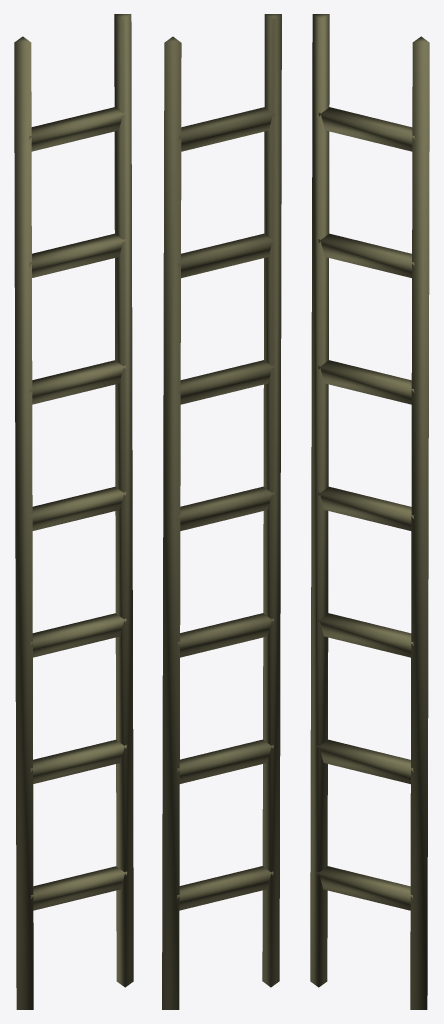
The model's file is dhhf.hrc.gltf.
The picture shows the model from 3 angles, left to right: view 1: azimuth 30°, elevation 25°; view 2: azimuth 210°, elevation 25°; view 3: azimuth 330°, elevation 25°; orthographic projection.
Visible parts, largest first — view 1: dhhfBone0_null; view 2: dhhfBone0_null; view 3: dhhfBone0_null.
Boxes of the visible parts, bbox=[...] form: dhhfBone0_null: bbox=[14, 14, 133, 1009]; dhhfBone0_null: bbox=[162, 14, 281, 1009]; dhhfBone0_null: bbox=[310, 14, 429, 1009].
Bounding box in the file's own units: 20.86 × 164 × 3.38.
